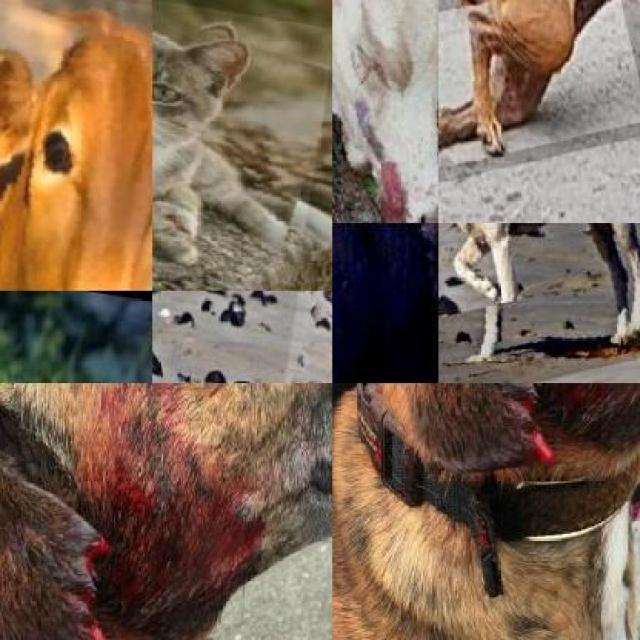buffalo: (332, 223, 438, 383)
cat: (152, 0, 332, 286)
cow: (0, 0, 152, 291), (332, 0, 438, 223)
dog: (0, 383, 332, 640), (332, 383, 640, 640), (438, 0, 640, 202), (438, 223, 640, 383)
injured: (0, 412, 206, 640), (438, 0, 640, 185), (375, 383, 640, 508), (332, 223, 390, 383), (438, 223, 522, 319)
